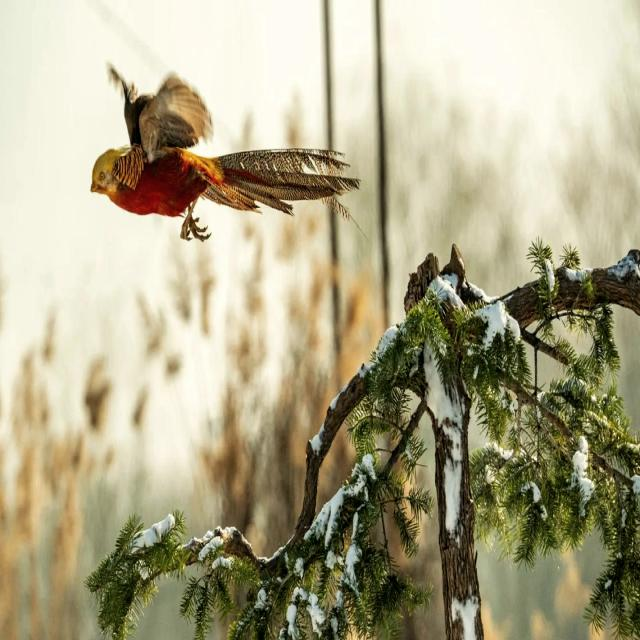Chrysolophus pictus feather: (204, 149, 360, 216)
